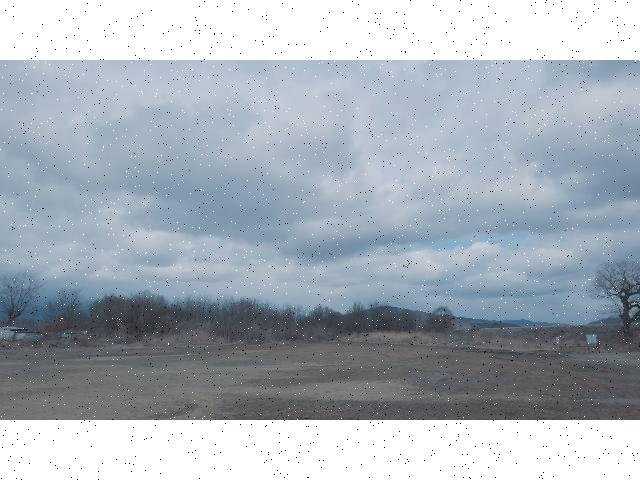Anti-Drone: (394, 261, 418, 271)
